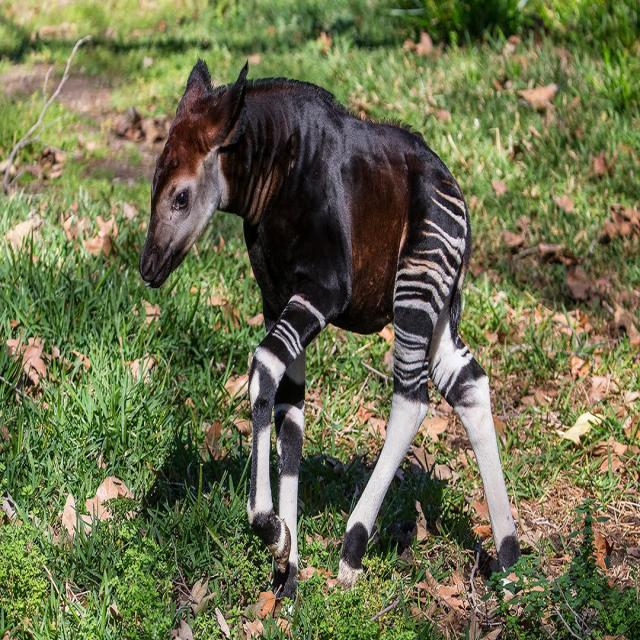Okapi: (130, 41, 522, 605)
